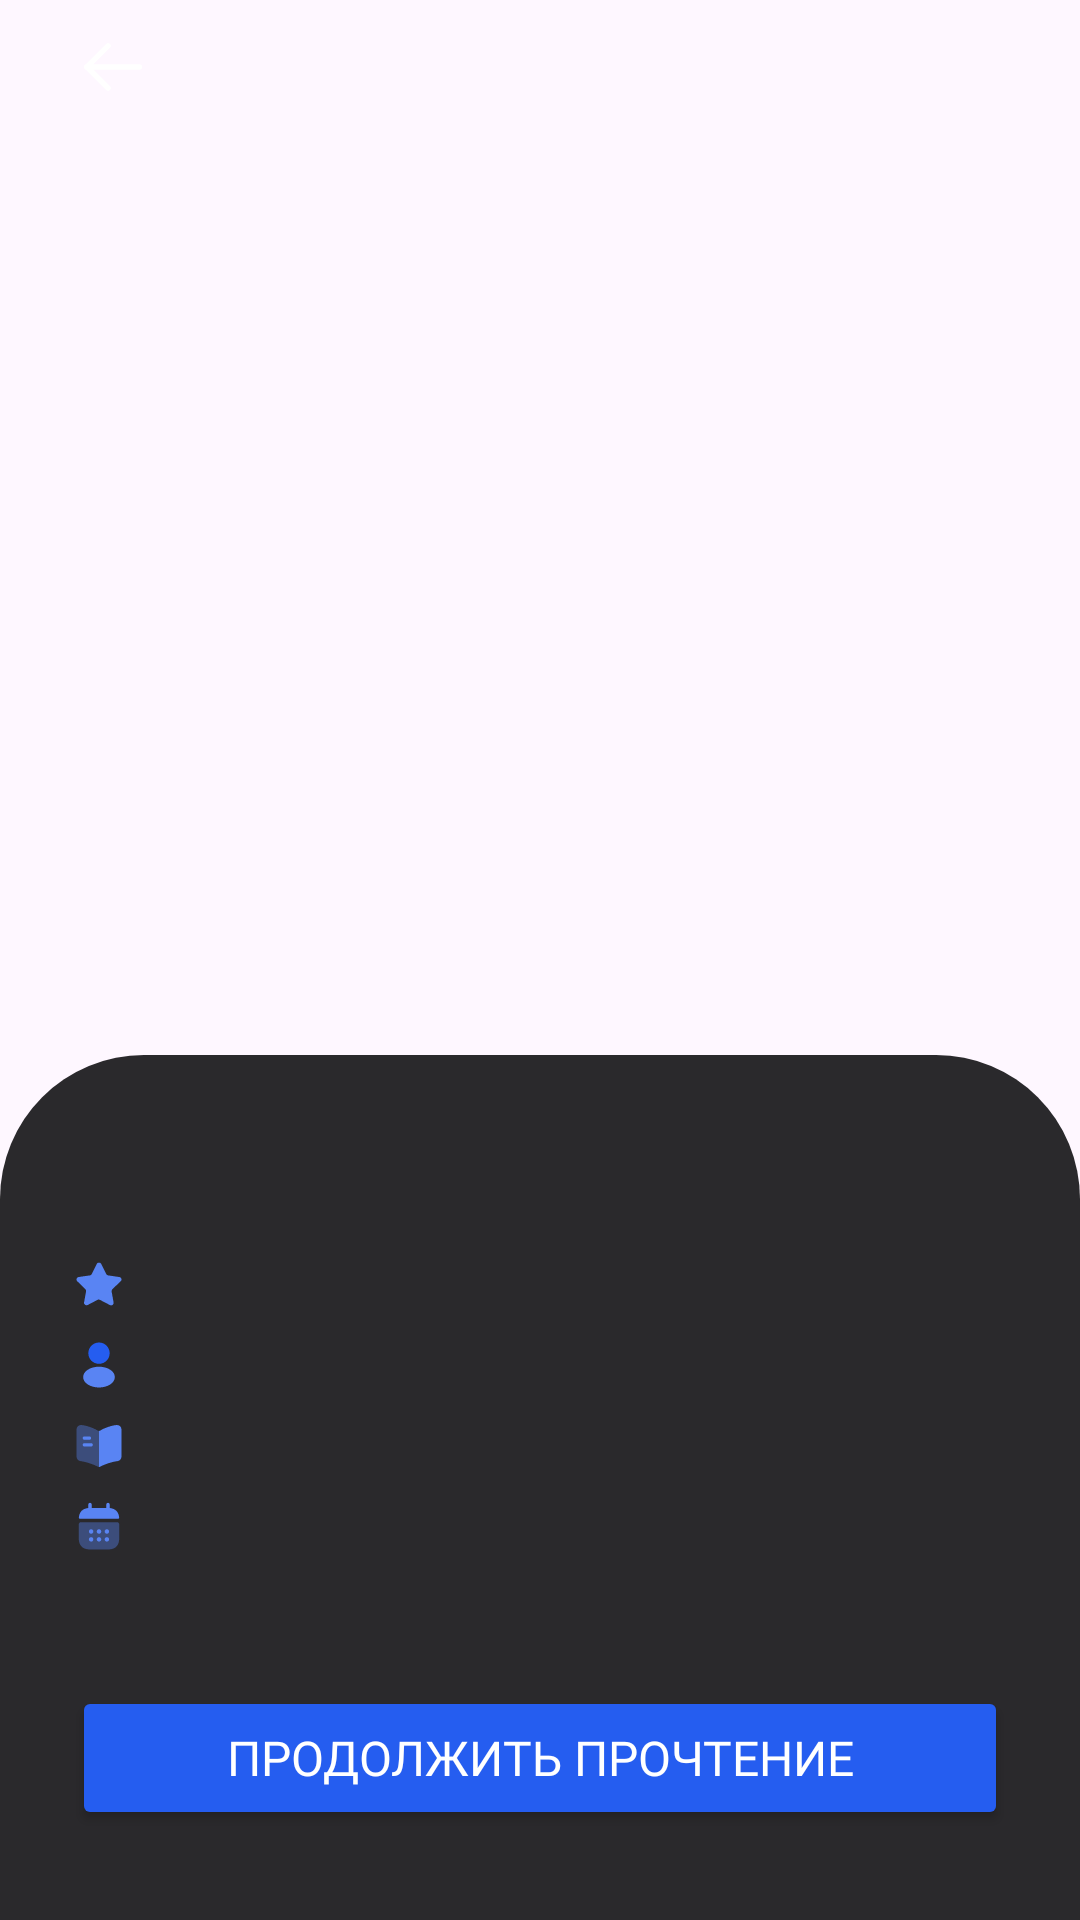

Point at icon controls on the screen. Image size 1080 × 1920, points as point (x, y).
textbook author: point (99, 1365)
textbook date: point (99, 1526)
textbook pages: point (99, 1446)
textbook top: point (99, 1284)
